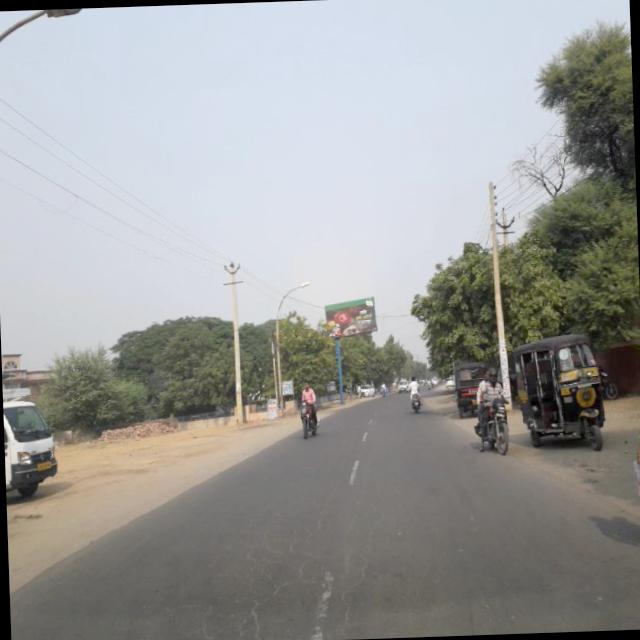crack: (204, 491, 385, 640)
